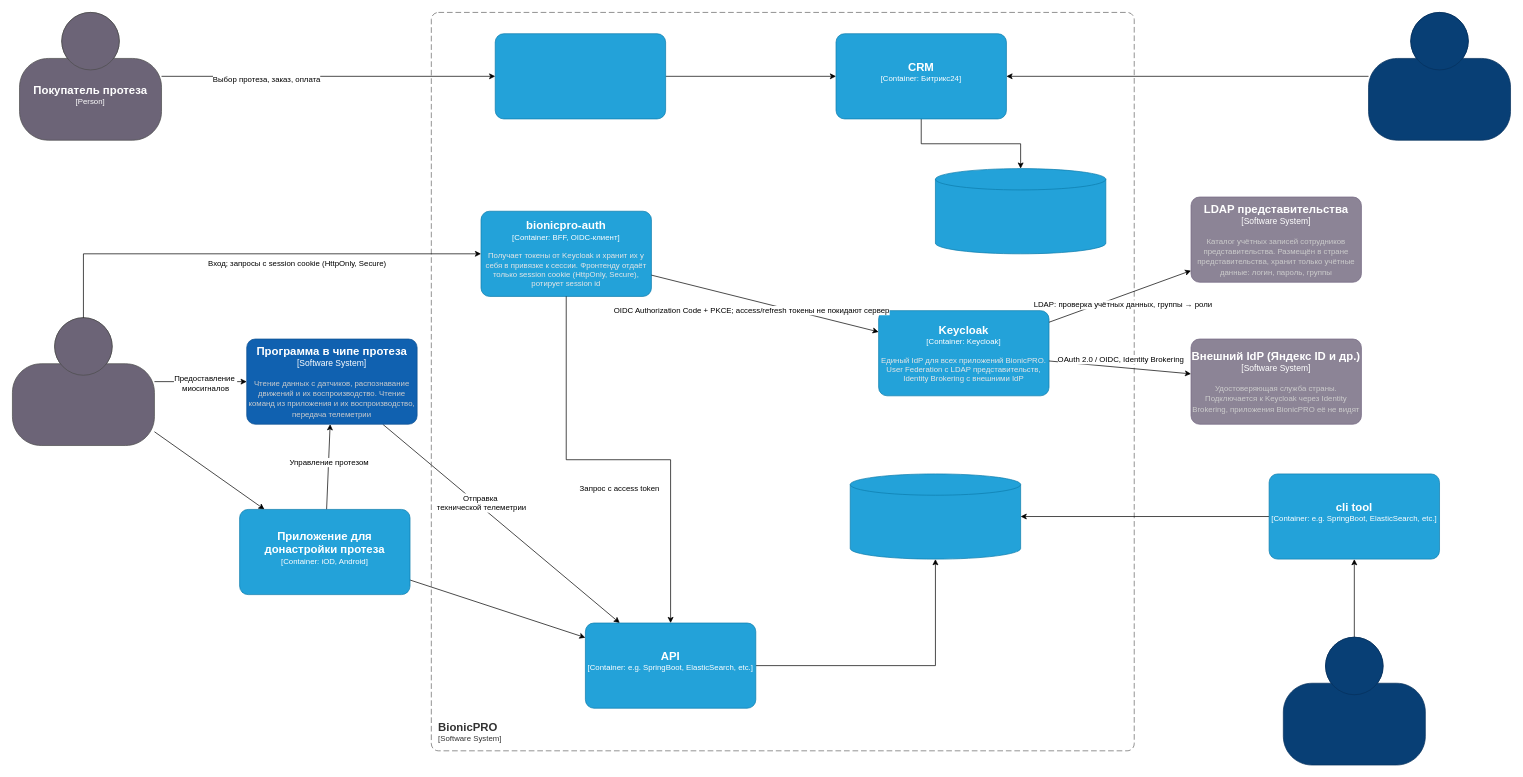
The diagram is 1523 pixels wide and 777 high, and some of its shapes have lost their labels. Here are the shapes that lost their labels. From the top down, the centre of each, then its label:
At point (580, 76): "Интернет-магазин [Container: Битрикс24]".
At point (1439, 76): "Оператор производства [Person]".
At point (1020, 211): "CRM DB [Container: e.g. Oracle Database 12]".
At point (83, 381): "Пилот протеза [Person] С этого человека считываются данные".
At point (935, 516): "База данных [Container: PostgreSQL]".
At point (1354, 701): "ML-инженер [Person]".
